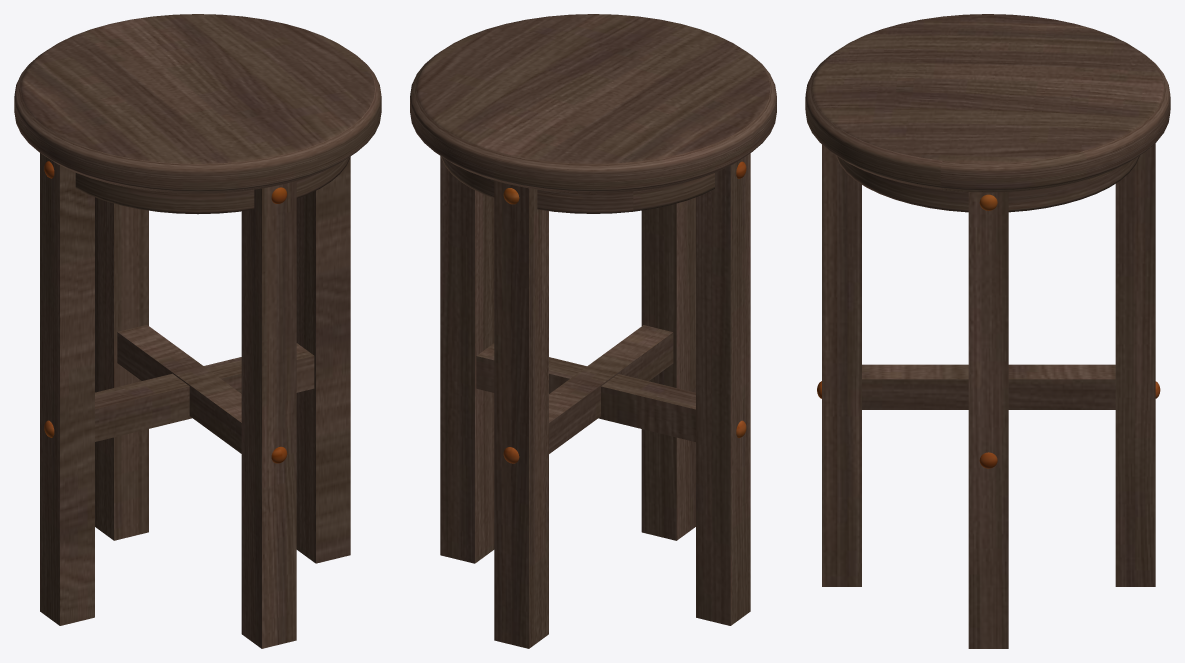
Rendered from wooden stool.glb.
3 views of the same model, side by side, from view 1: azimuth 30°, elevation 25°; view 2: azimuth 150°, elevation 25°; view 3: azimuth 270°, elevation 25° (orthographic).
Parts seen in each view (by area): view 1: Truss a, Sphere; view 2: Truss a, Sphere; view 3: Truss a, Sphere.
Boxes of the visible parts, x1,y1,x2,y2 form: Truss a: (14,14,381,648); Sphere: (44,161,287,463); Truss a: (410,14,776,648); Sphere: (503,161,746,463); Truss a: (805,14,1170,648); Sphere: (817,194,1160,468).
Size of the model in its own units: 2.57 by 3.84 by 2.57.
2 materials, 2 textured.
